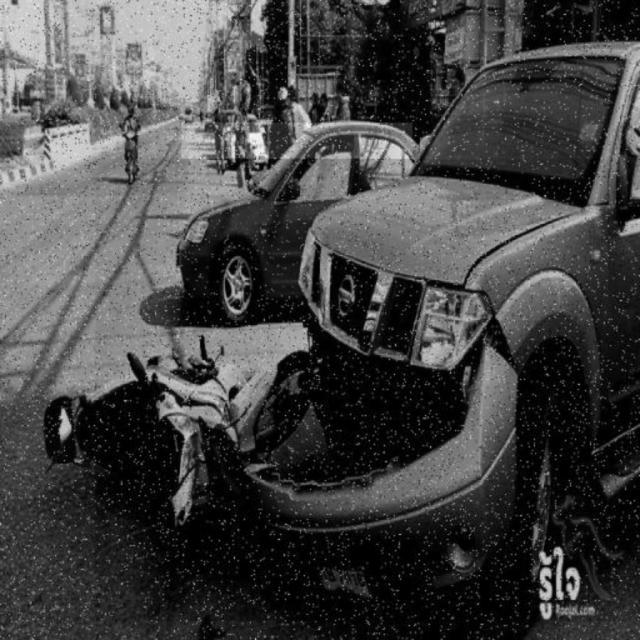accident: (95, 159, 639, 621)
person: (269, 84, 304, 148)
vehicle: (181, 122, 412, 323), (117, 99, 153, 185)
